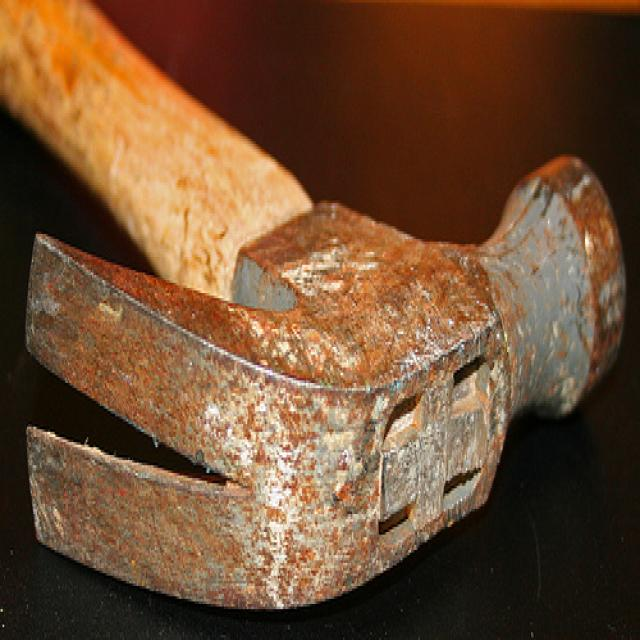Hammer: (7, 43, 632, 617)
